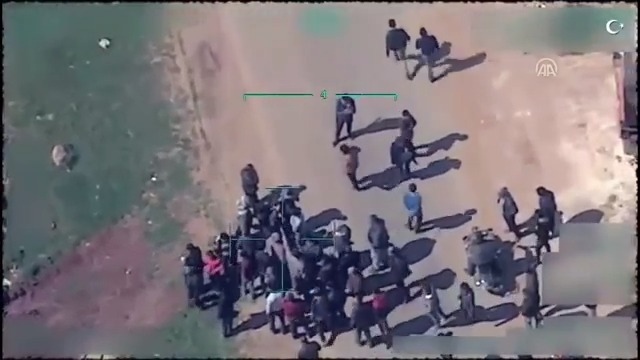insan: (493, 174, 529, 235), (338, 134, 373, 194), (382, 11, 412, 81), (398, 176, 431, 236), (417, 23, 447, 86), (331, 87, 361, 141), (536, 178, 566, 231), (367, 212, 389, 274), (285, 288, 311, 339), (423, 274, 447, 328), (240, 160, 262, 208), (458, 278, 477, 326)
